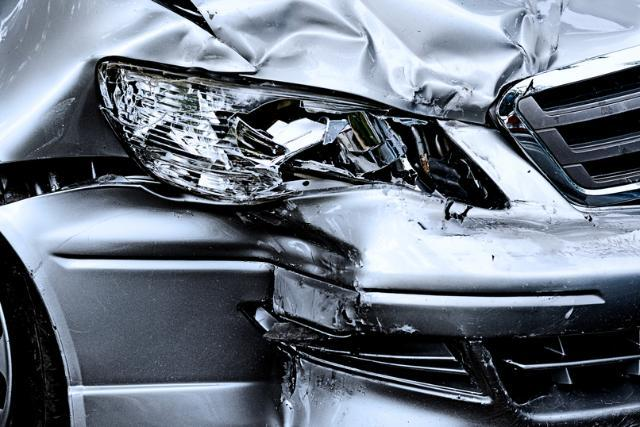Bonnet: (194, 8, 611, 120)
Bumper: (23, 209, 604, 427)
Light: (102, 71, 461, 204)
